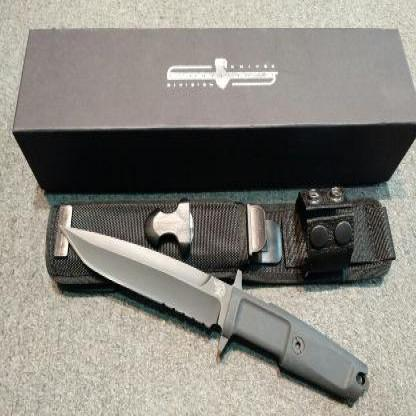knife: (50, 213, 252, 360)
